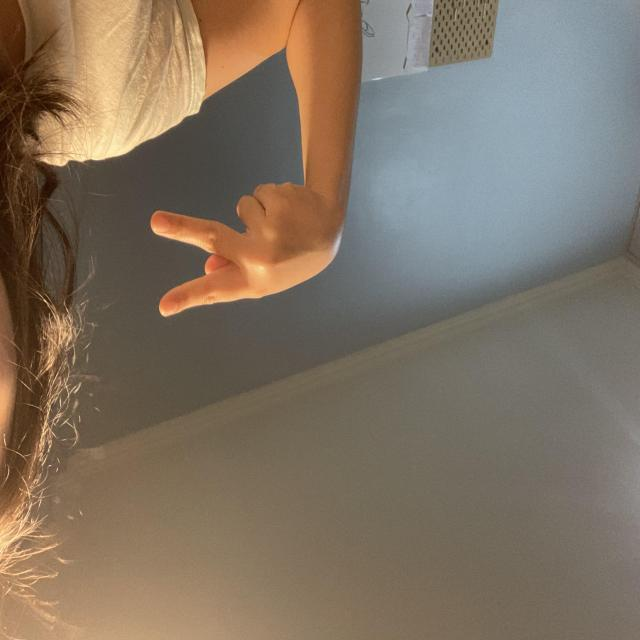K: (304, 322, 490, 458)
